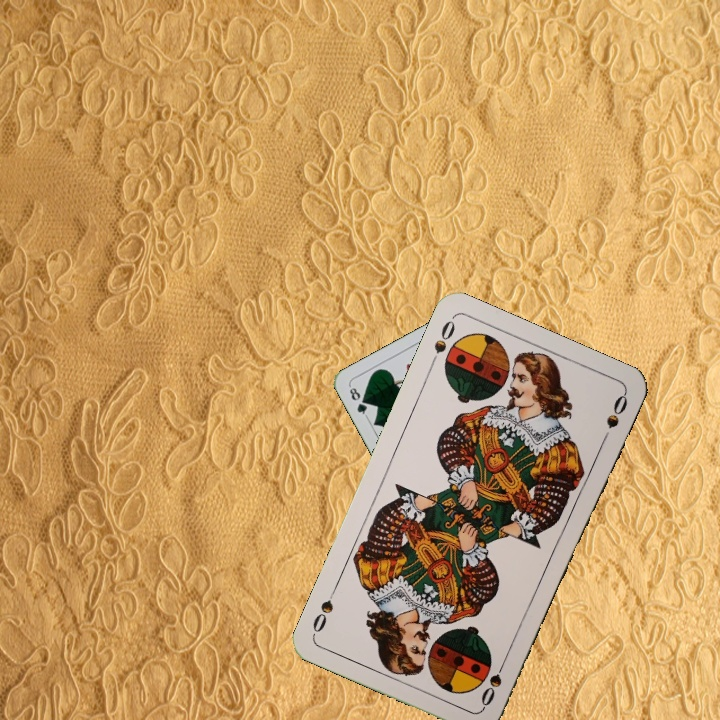G8: (345, 382, 370, 419)
SO: (477, 654, 509, 711), (426, 316, 458, 371)
